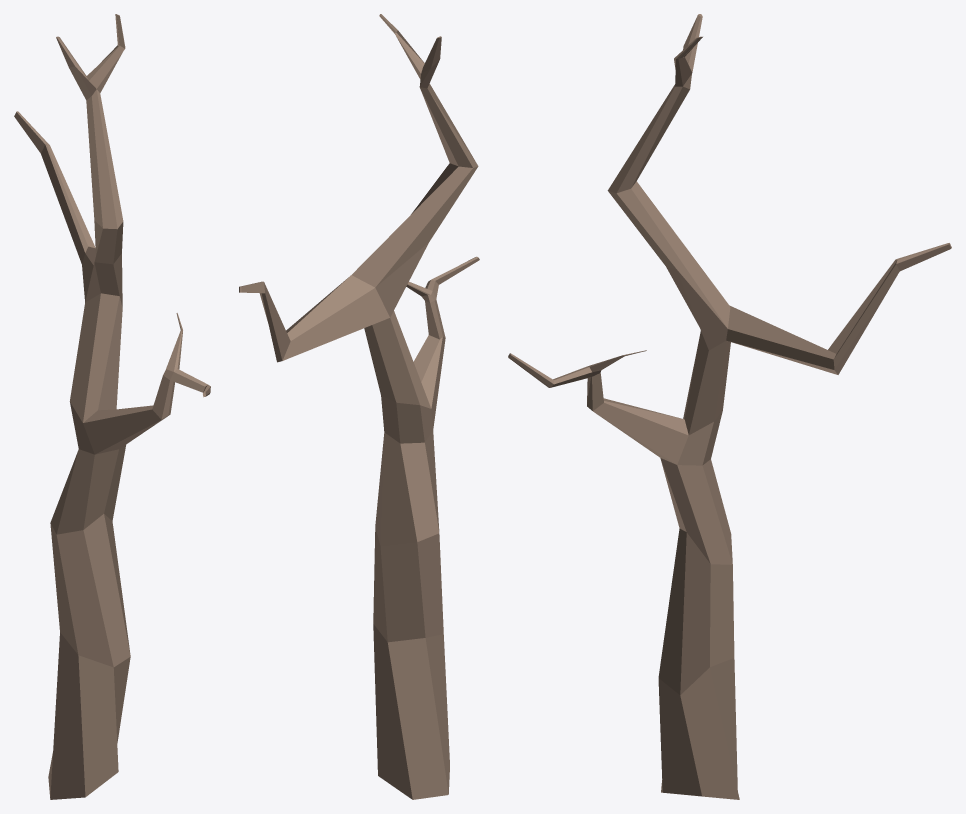
The model's file is deadtree2.fbx.
The picture shows the model from 3 angles, left to right: view 1: azimuth 30°, elevation 25°; view 2: azimuth 150°, elevation 25°; view 3: azimuth 270°, elevation 25°; orthographic projection. The views are drawn at different scales.
Parts seen in each view (by area): view 1: Tree; view 2: Tree; view 3: Tree.
Boxes of the visible parts, x1,y1,x2,y2 form: Tree: [14, 14, 210, 799]; Tree: [239, 14, 479, 799]; Tree: [508, 14, 951, 799].
Size of the model in its own units: 65.41 by 433 by 219.
